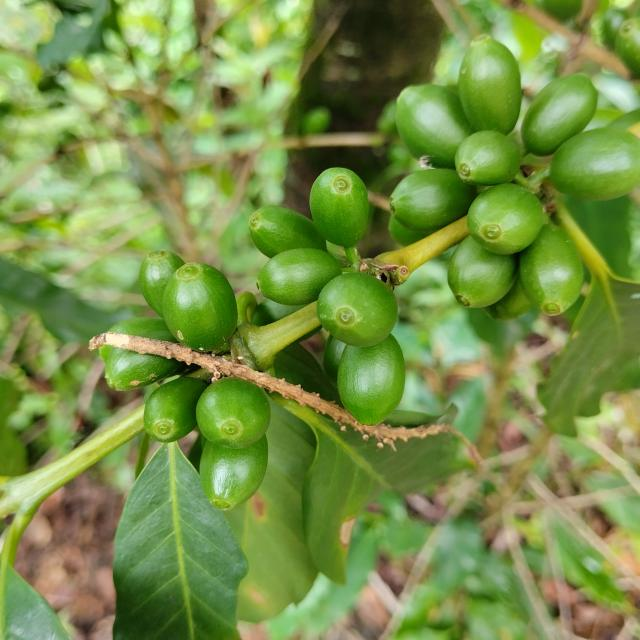green: (162, 262, 237, 352), (550, 126, 640, 200), (396, 83, 473, 168), (522, 72, 599, 155), (459, 34, 522, 134), (338, 334, 406, 425), (317, 272, 398, 347), (520, 224, 585, 316), (390, 168, 477, 234), (468, 183, 545, 254), (196, 378, 270, 449), (448, 235, 519, 308), (199, 436, 268, 511), (257, 248, 342, 305), (310, 168, 369, 248), (143, 377, 207, 443), (249, 205, 327, 258), (99, 345, 185, 391), (455, 130, 522, 185), (138, 250, 185, 317), (485, 273, 532, 322), (109, 317, 177, 342), (389, 214, 428, 246)
